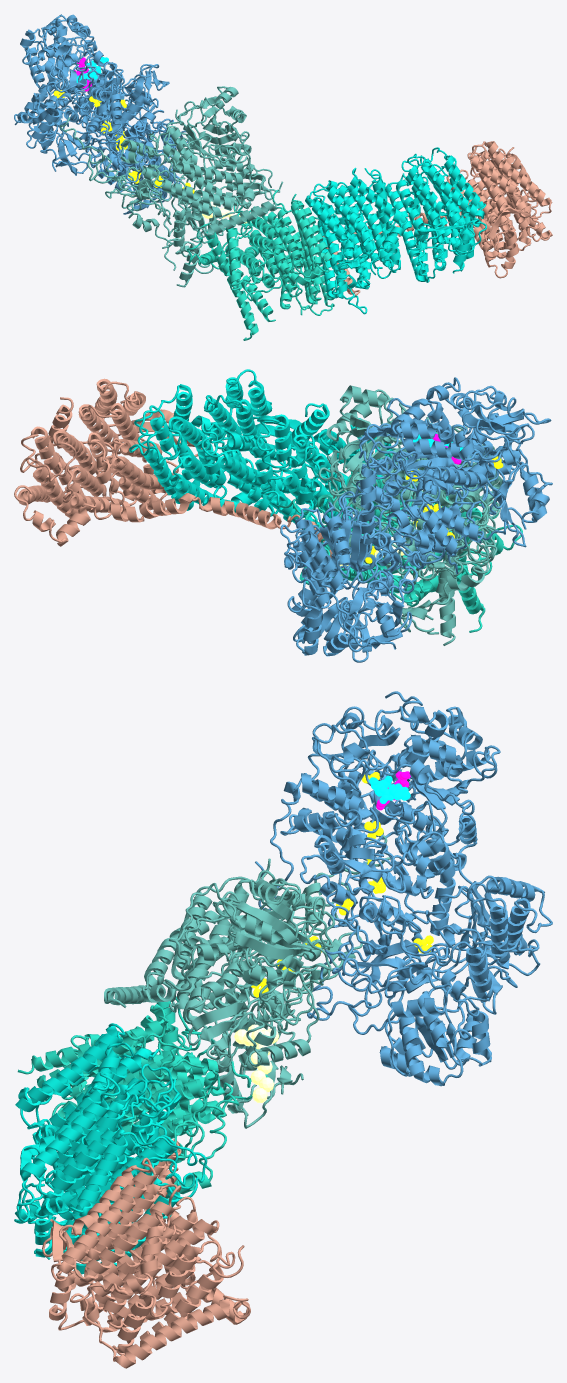
Rendered from 7Z7V_assembled_pieces.glb.
The picture shows the model from 3 angles, top to bottom: view 1: azimuth 30°, elevation 25°; view 2: azimuth 150°, elevation 25°; view 3: azimuth 270°, elevation 25°; orthographic projection. The views are drawn at different scales.
Parts seen in each view (by area): view 1: Piece_ComplexI_Antiporter_NuoNM, Piece_ComplexI_Hydrophilic_NuoEFG, Piece_ComplexI_Connecting_NuoBCI, Piece_ComplexI_Transmembrane_NuoAHJK, Piece_ComplexI_Lateral_Piston_NuoL, Piece_ComplexI_FeS_Clusters; view 2: Piece_ComplexI_Hydrophilic_NuoEFG, Piece_ComplexI_Antiporter_NuoNM, Piece_ComplexI_Lateral_Piston_NuoL, Piece_ComplexI_Connecting_NuoBCI, Piece_ComplexI_Transmembrane_NuoAHJK; view 3: Piece_ComplexI_Hydrophilic_NuoEFG, Piece_ComplexI_Connecting_NuoBCI, Piece_ComplexI_Lateral_Piston_NuoL, Piece_ComplexI_Antiporter_NuoNM, Piece_ComplexI_Transmembrane_NuoAHJK, Piece_ComplexI_Ubiquinone, Piece_ComplexI_FeS_Clusters.
Boxes of the visible parts, x1,y1,x2,y2 form: Piece_ComplexI_Antiporter_NuoNM: (305,147,486,314); Piece_ComplexI_Hydrophilic_NuoEFG: (14,14,188,214); Piece_ComplexI_Connecting_NuoBCI: (59,86,283,287); Piece_ComplexI_Transmembrane_NuoAHJK: (187,189,337,340); Piece_ComplexI_Lateral_Piston_NuoL: (323,141,552,295); Piece_ComplexI_FeS_Clusters: (53,90,194,193); Piece_ComplexI_Hydrophilic_NuoEFG: (280,377,552,662); Piece_ComplexI_Antiporter_NuoNM: (129,369,413,533); Piece_ComplexI_Lateral_Piston_NuoL: (14,378,332,557); Piece_ComplexI_Connecting_NuoBCI: (318,385,502,645); Piece_ComplexI_Transmembrane_NuoAHJK: (279,450,522,632); Piece_ComplexI_Hydrophilic_NuoEFG: (255,691,552,1086); Piece_ComplexI_Connecting_NuoBCI: (104,835,390,1128); Piece_ComplexI_Lateral_Piston_NuoL: (42,1139,250,1368); Piece_ComplexI_Antiporter_NuoNM: (14,1023,207,1274); Piece_ComplexI_Transmembrane_NuoAHJK: (17,997,268,1198); Piece_ComplexI_Ubiquinone: (234,1024,279,1102); Piece_ComplexI_FeS_Clusters: (251,772,433,997).
Bounding box in the file's own units: 24.4 × 13.94 × 16.5.
